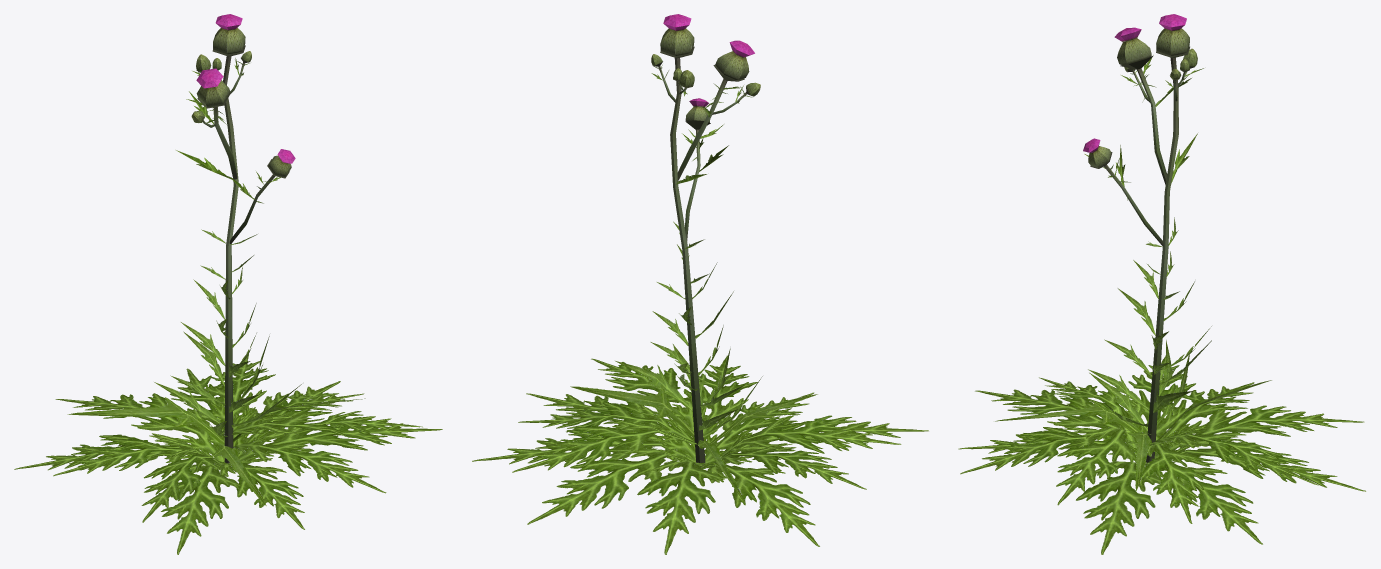
The model's file is thistle.fbx.
3 renders of one model, left to right at view 1: azimuth 30°, elevation 25°; view 2: azimuth 150°, elevation 25°; view 3: azimuth 270°, elevation 25°, orthographic. The views are drawn at different scales.
Visible parts, largest first — view 1: polySurface1501; view 2: polySurface1501; view 3: polySurface1501.
Part boxes in pixels (box(x1,y1,x2,y2)): polySurface1501: box(14, 14, 442, 554); polySurface1501: box(472, 14, 928, 554); polySurface1501: box(958, 14, 1365, 554).
Bounding box in the file's own units: 43.62 × 51.04 × 41.46.
1 material, 1 textured.
